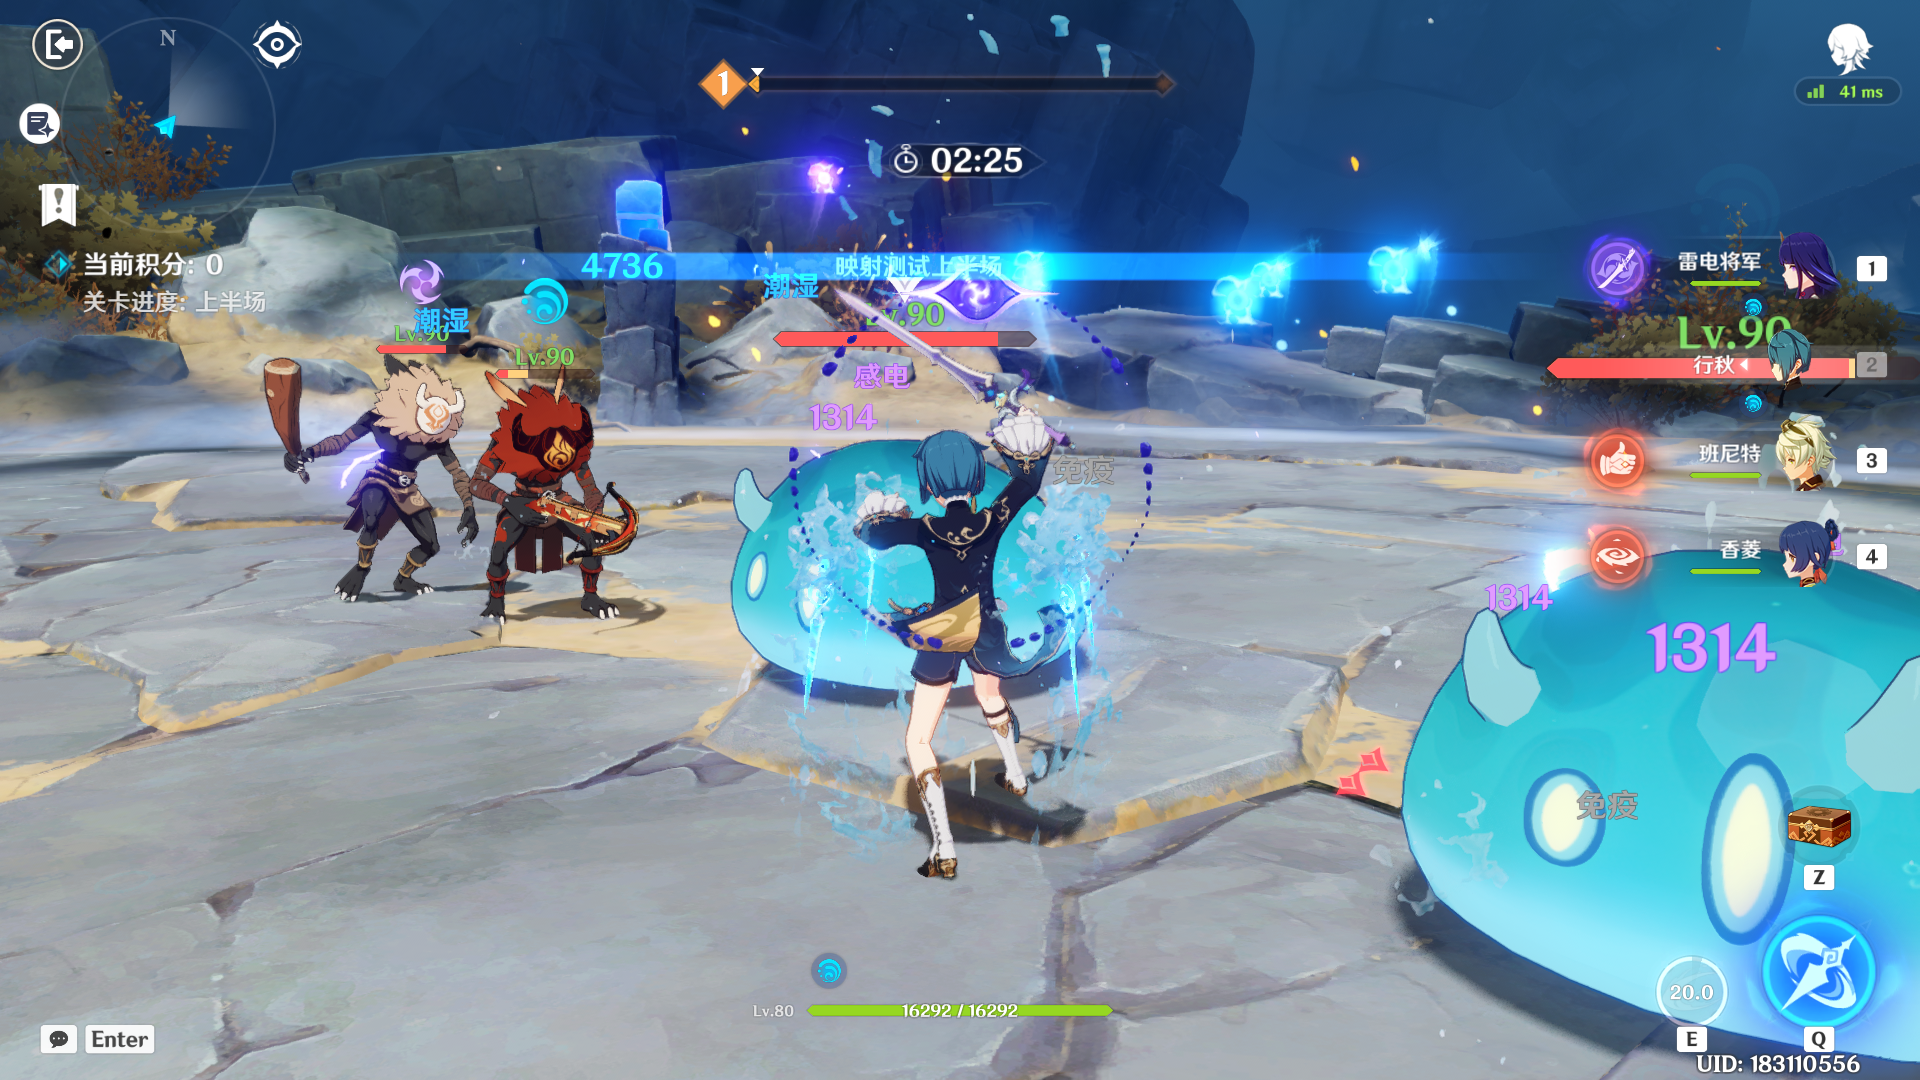character: (837, 398, 1137, 907)
hili: (257, 306, 501, 662), (462, 360, 658, 659)
slime: (1352, 473, 1920, 1080), (702, 394, 1109, 745)
